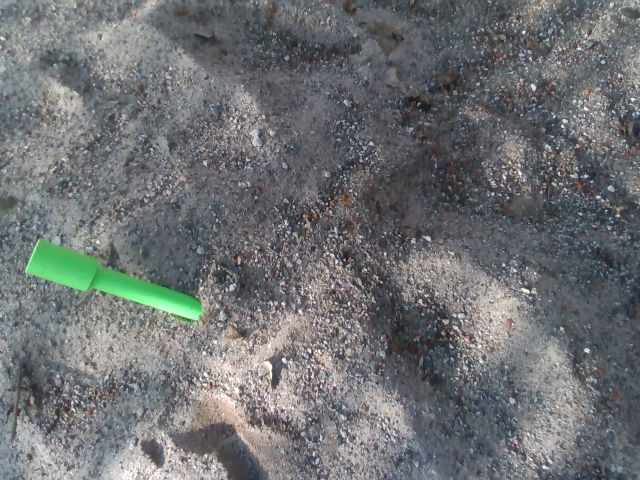Probe: (19, 232, 229, 334)
